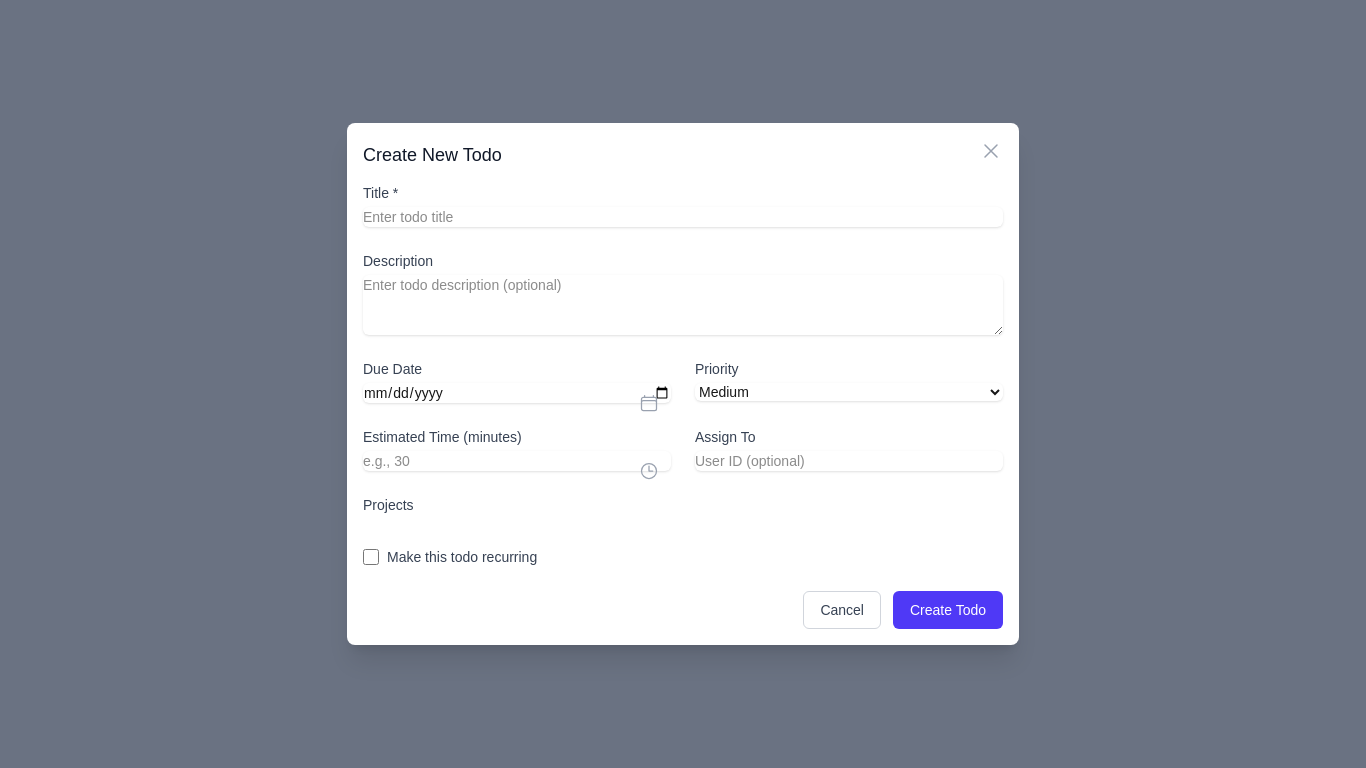
TodoModal › Form Validation › should show error when estimated time is not a positive integer
The image size is (1366, 768).
Type "Test Todo" into the field labelled "Title *" at (683, 217), box [363,207,1003,227]
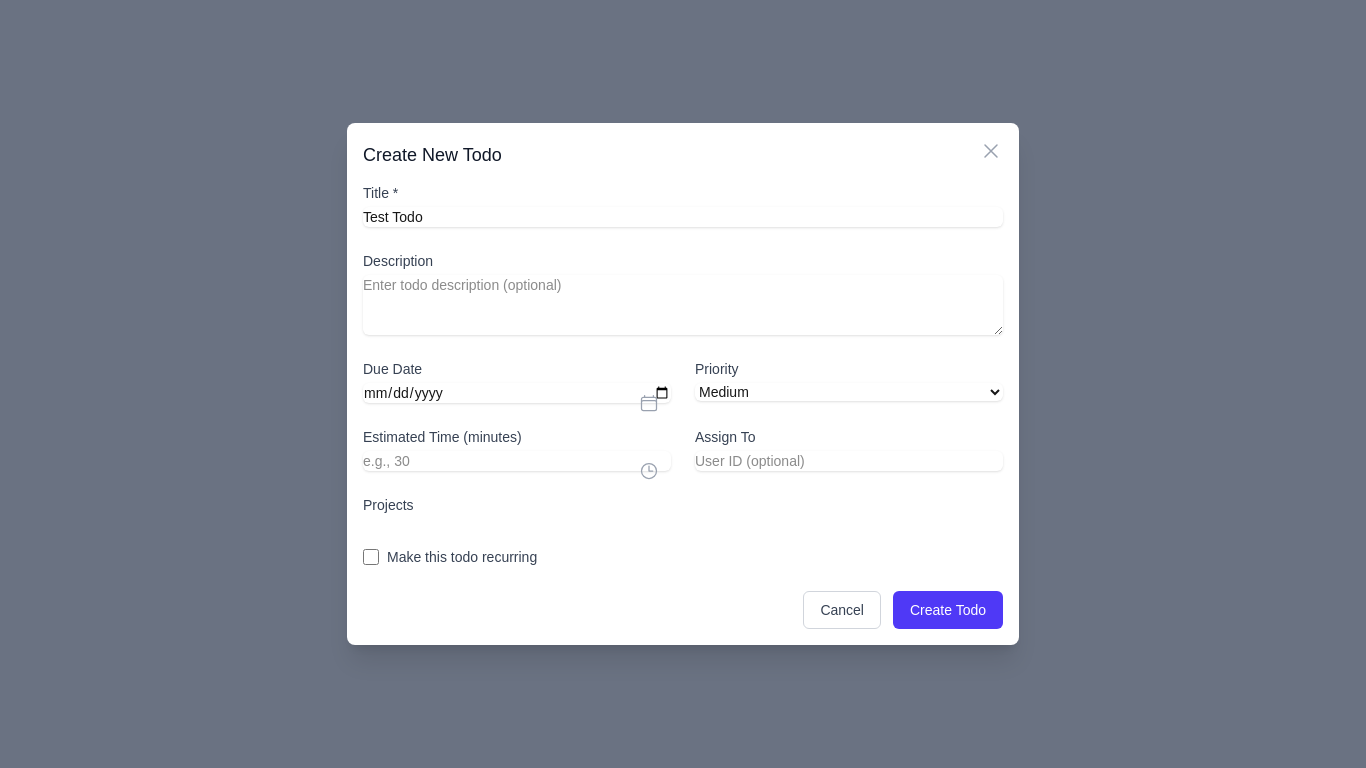
Type "-5" into the field labelled "Estimated Time (minutes)" at (517, 461), box [363,451,671,471]
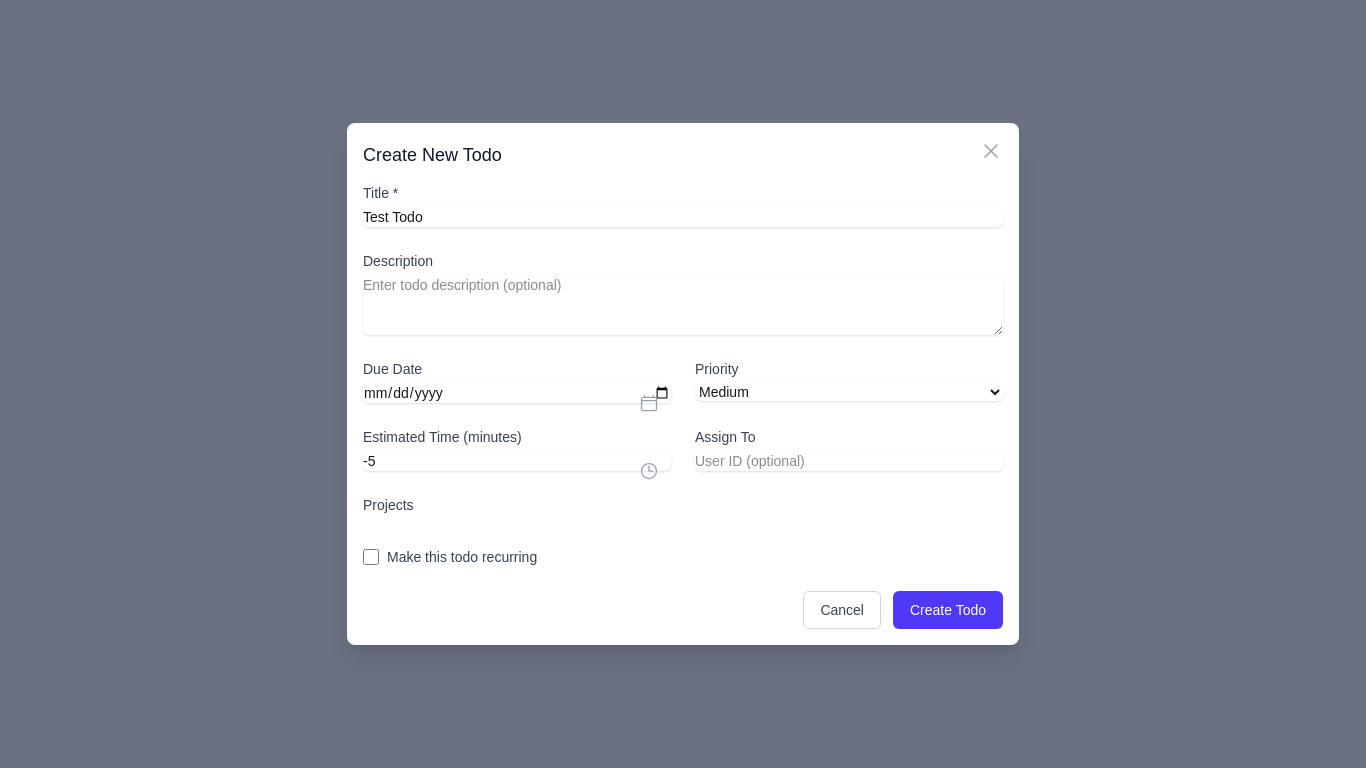
Click the button "Create Todo" at (948, 610), box [893,591,1003,629]
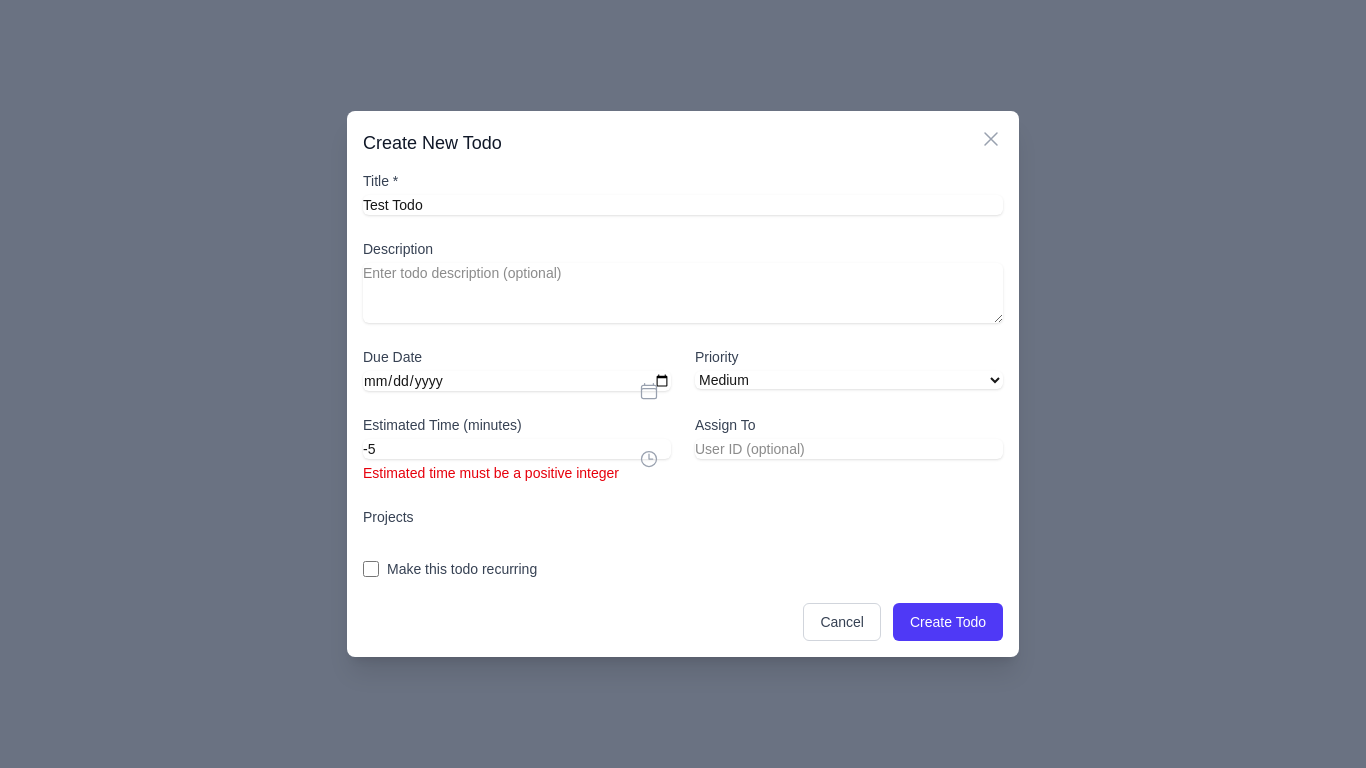
Expected: the text "Estimated time must be a positive integer" is shown, [363,465,619,481]
# Now try a decimal
Replace the text in the field labelled "Estimated Time (minutes)" with "2.5" at (517, 449), box [363,439,671,459]
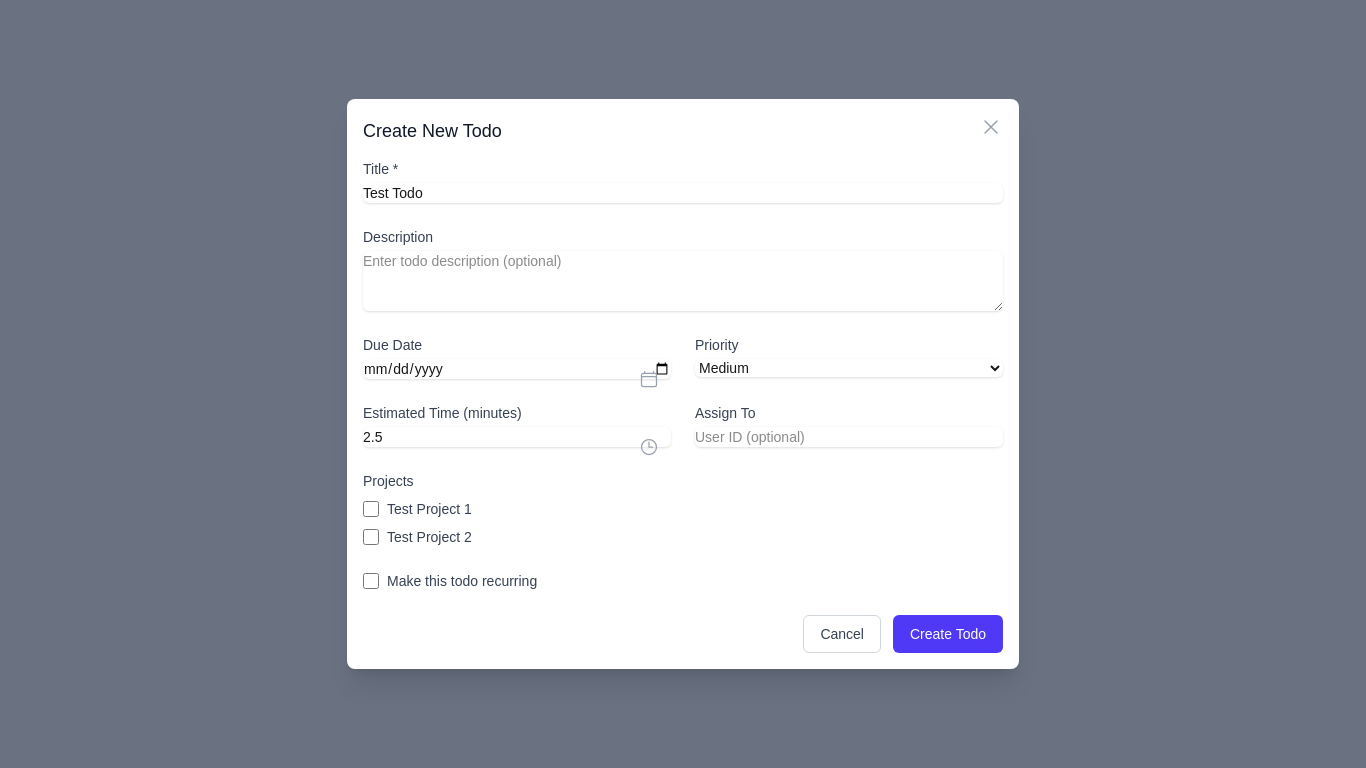
Click the button "Create Todo" at (948, 634), box [893,615,1003,653]
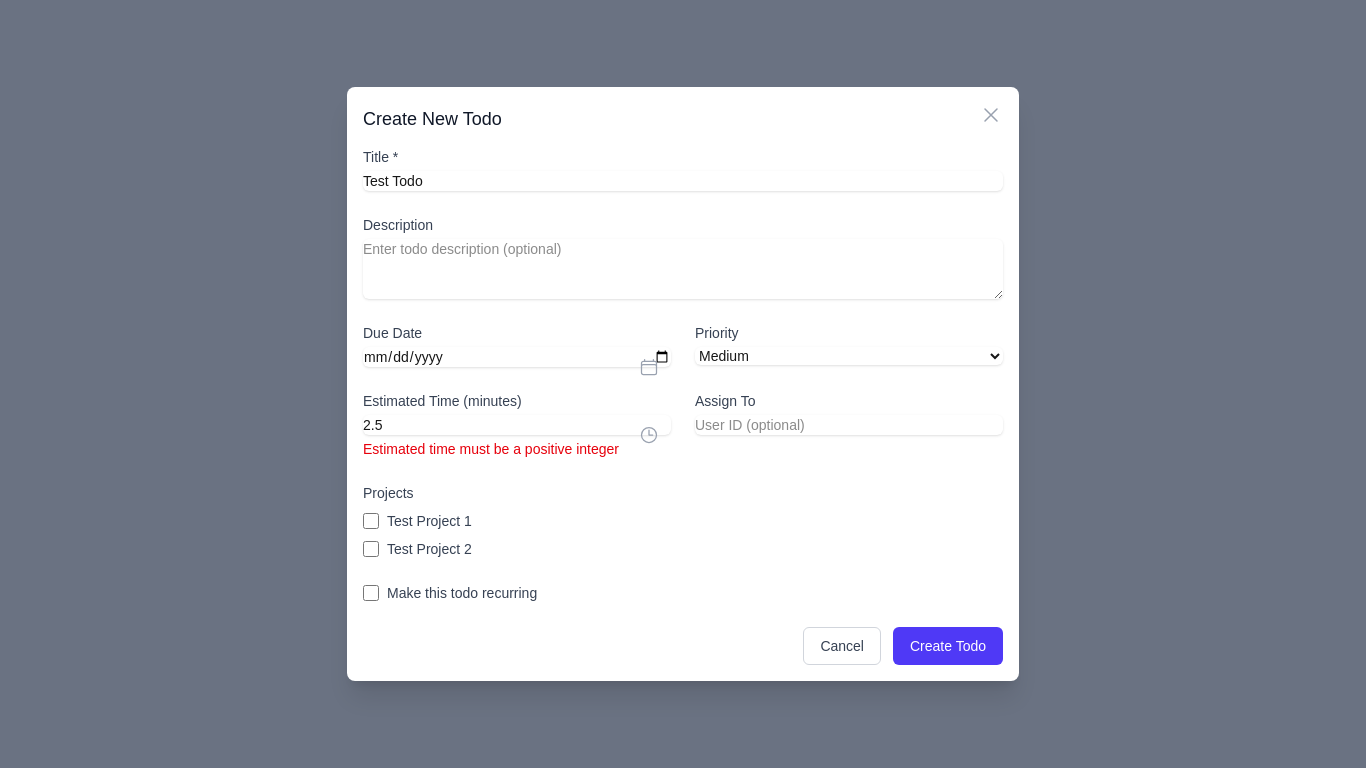
Expected: the text "Estimated time must be a positive integer" is shown, [363,441,619,457]
